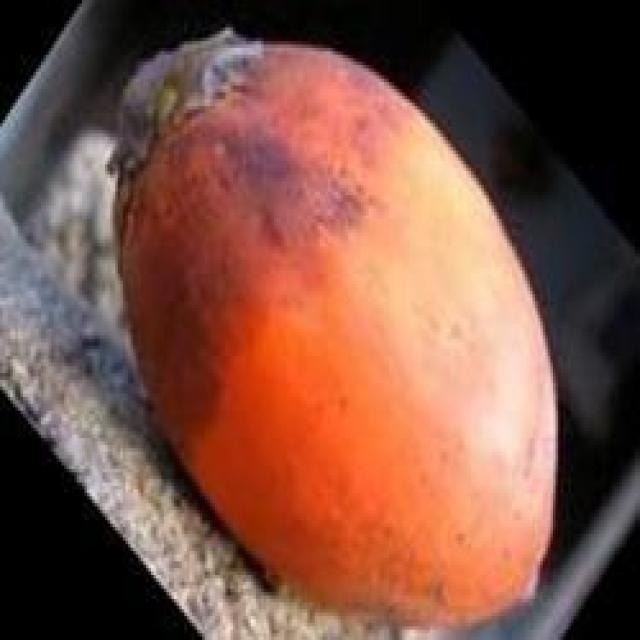good: (115, 34, 550, 619)
